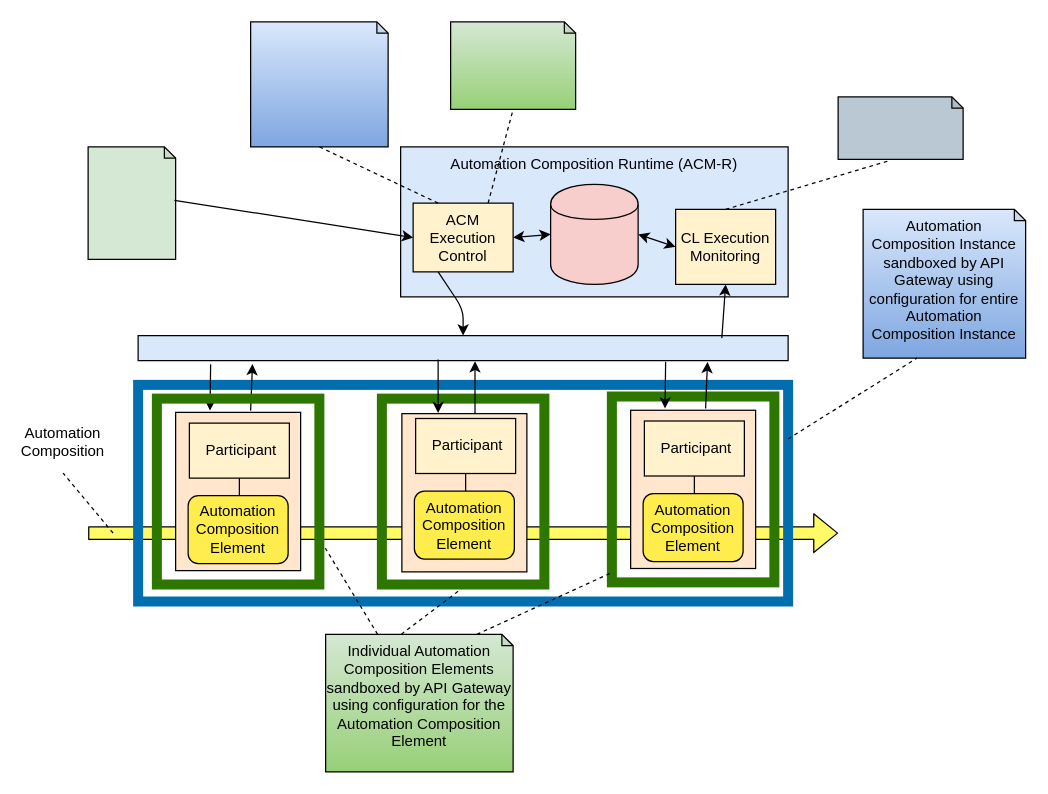
This 1048x794 diagram has some shape labels left out. Here are the shapes that lost their labels. From the top down, the centre of each, then its label:
pixel 318 84: Specify API Gateway configuration for entire Automation Compostion Instance
pixel 512 65: Specify API Gateway configuration for each Participant
pixel 900 127: Monitor API Gateway access
pixel 131 202: AC Definition (TOSCA) including API Gateway Metadata
pixel 593 233: Run Time Inventory
pixel 462 347: DMaaP/Kafka
